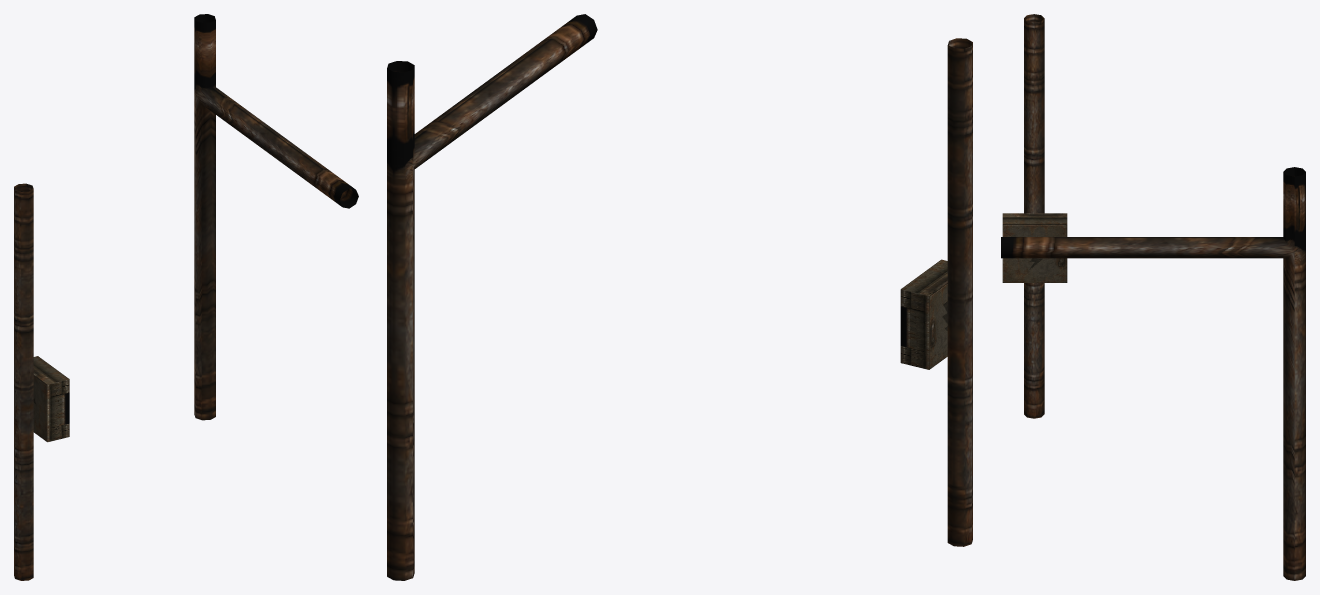
Rendered from Pipes.fbx.
3 views of the same model, side by side, from view 1: azimuth 30°, elevation 25°; view 2: azimuth 150°, elevation 25°; view 3: azimuth 270°, elevation 25° (orthographic). The views are drawn at different scales.
Parts seen in each view (by area): view 1: Pipes; view 2: Pipes; view 3: Pipes.
Part boxes in pixels (x1,y1,x2,y2): Pipes: (14,14,358,580); Pipes: (387,14,972,580); Pipes: (1001,14,1305,580).
Bounding box in the file's own units: 343 × 398 × 272.
1 material, 1 textured.
